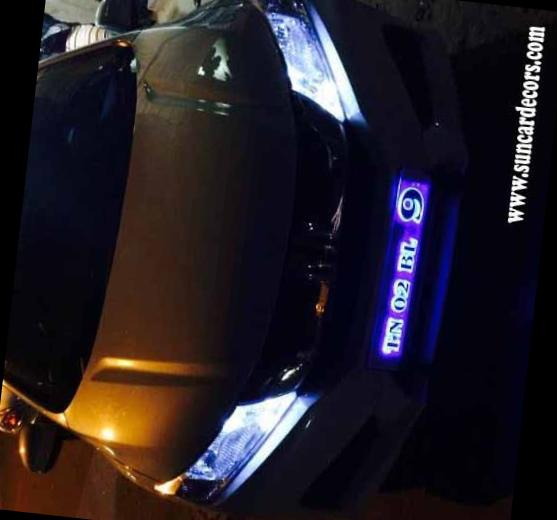plate: (357, 166, 446, 369)
